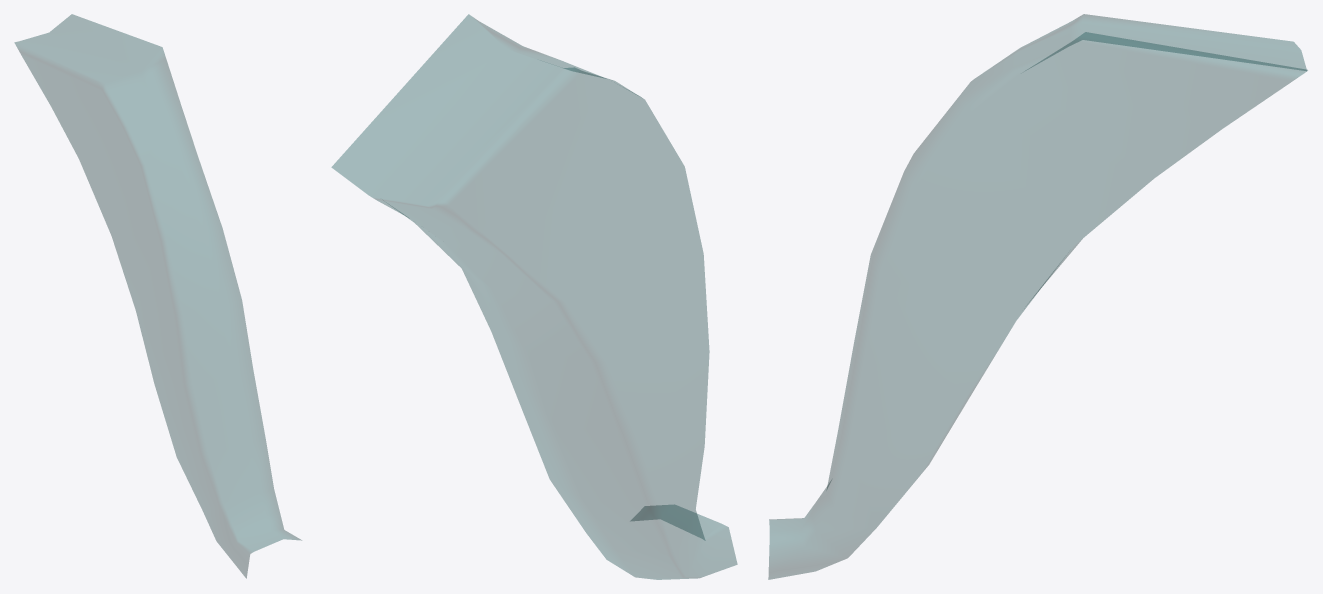
The model's file is Transperent Hypothalamus.gltf.
3 renders of one model, left to right at view 1: azimuth 30°, elevation 25°; view 2: azimuth 150°, elevation 25°; view 3: azimuth 270°, elevation 25°, orthographic. The views are drawn at different scales.
Parts seen in each view (by area): view 1: Hypothalamus; view 2: Hypothalamus; view 3: Hypothalamus.
Part boxes in pixels (left/top/right/bottom): Hypothalamus: left=14, top=14, right=301, bottom=578; Hypothalamus: left=331, top=14, right=737, bottom=579; Hypothalamus: left=768, top=14, right=1307, bottom=579.
Bounding box in the file's own units: 0.6017 × 2.93 × 2.62.
